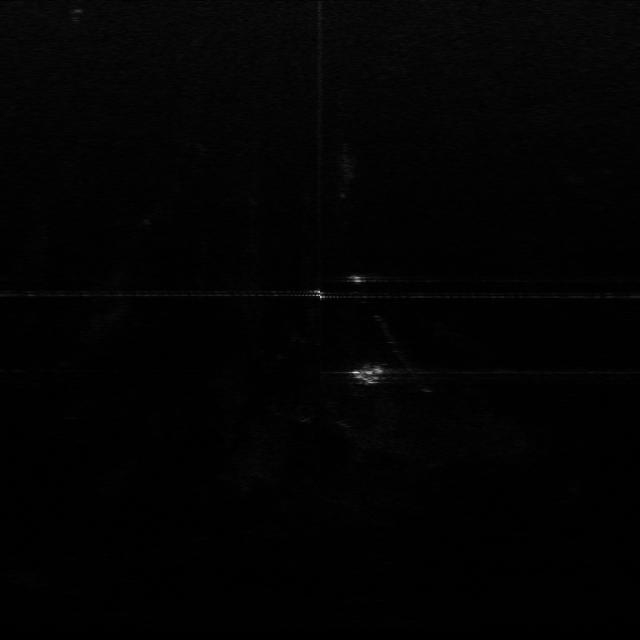rov: (350, 367, 386, 385)
